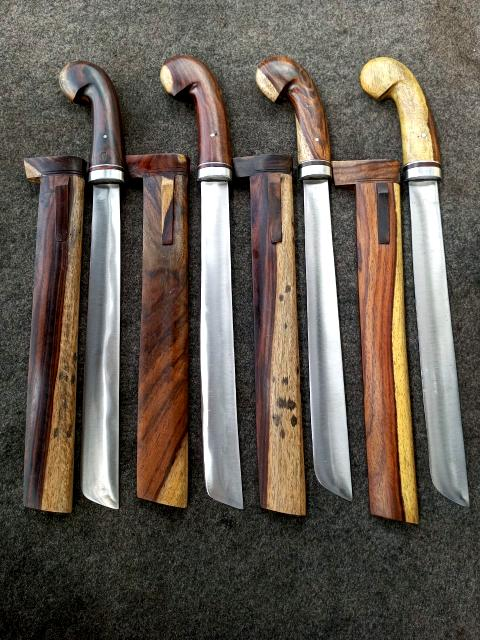long knife: (359, 56, 471, 508), (254, 54, 354, 502), (160, 56, 244, 510), (58, 61, 124, 511)
